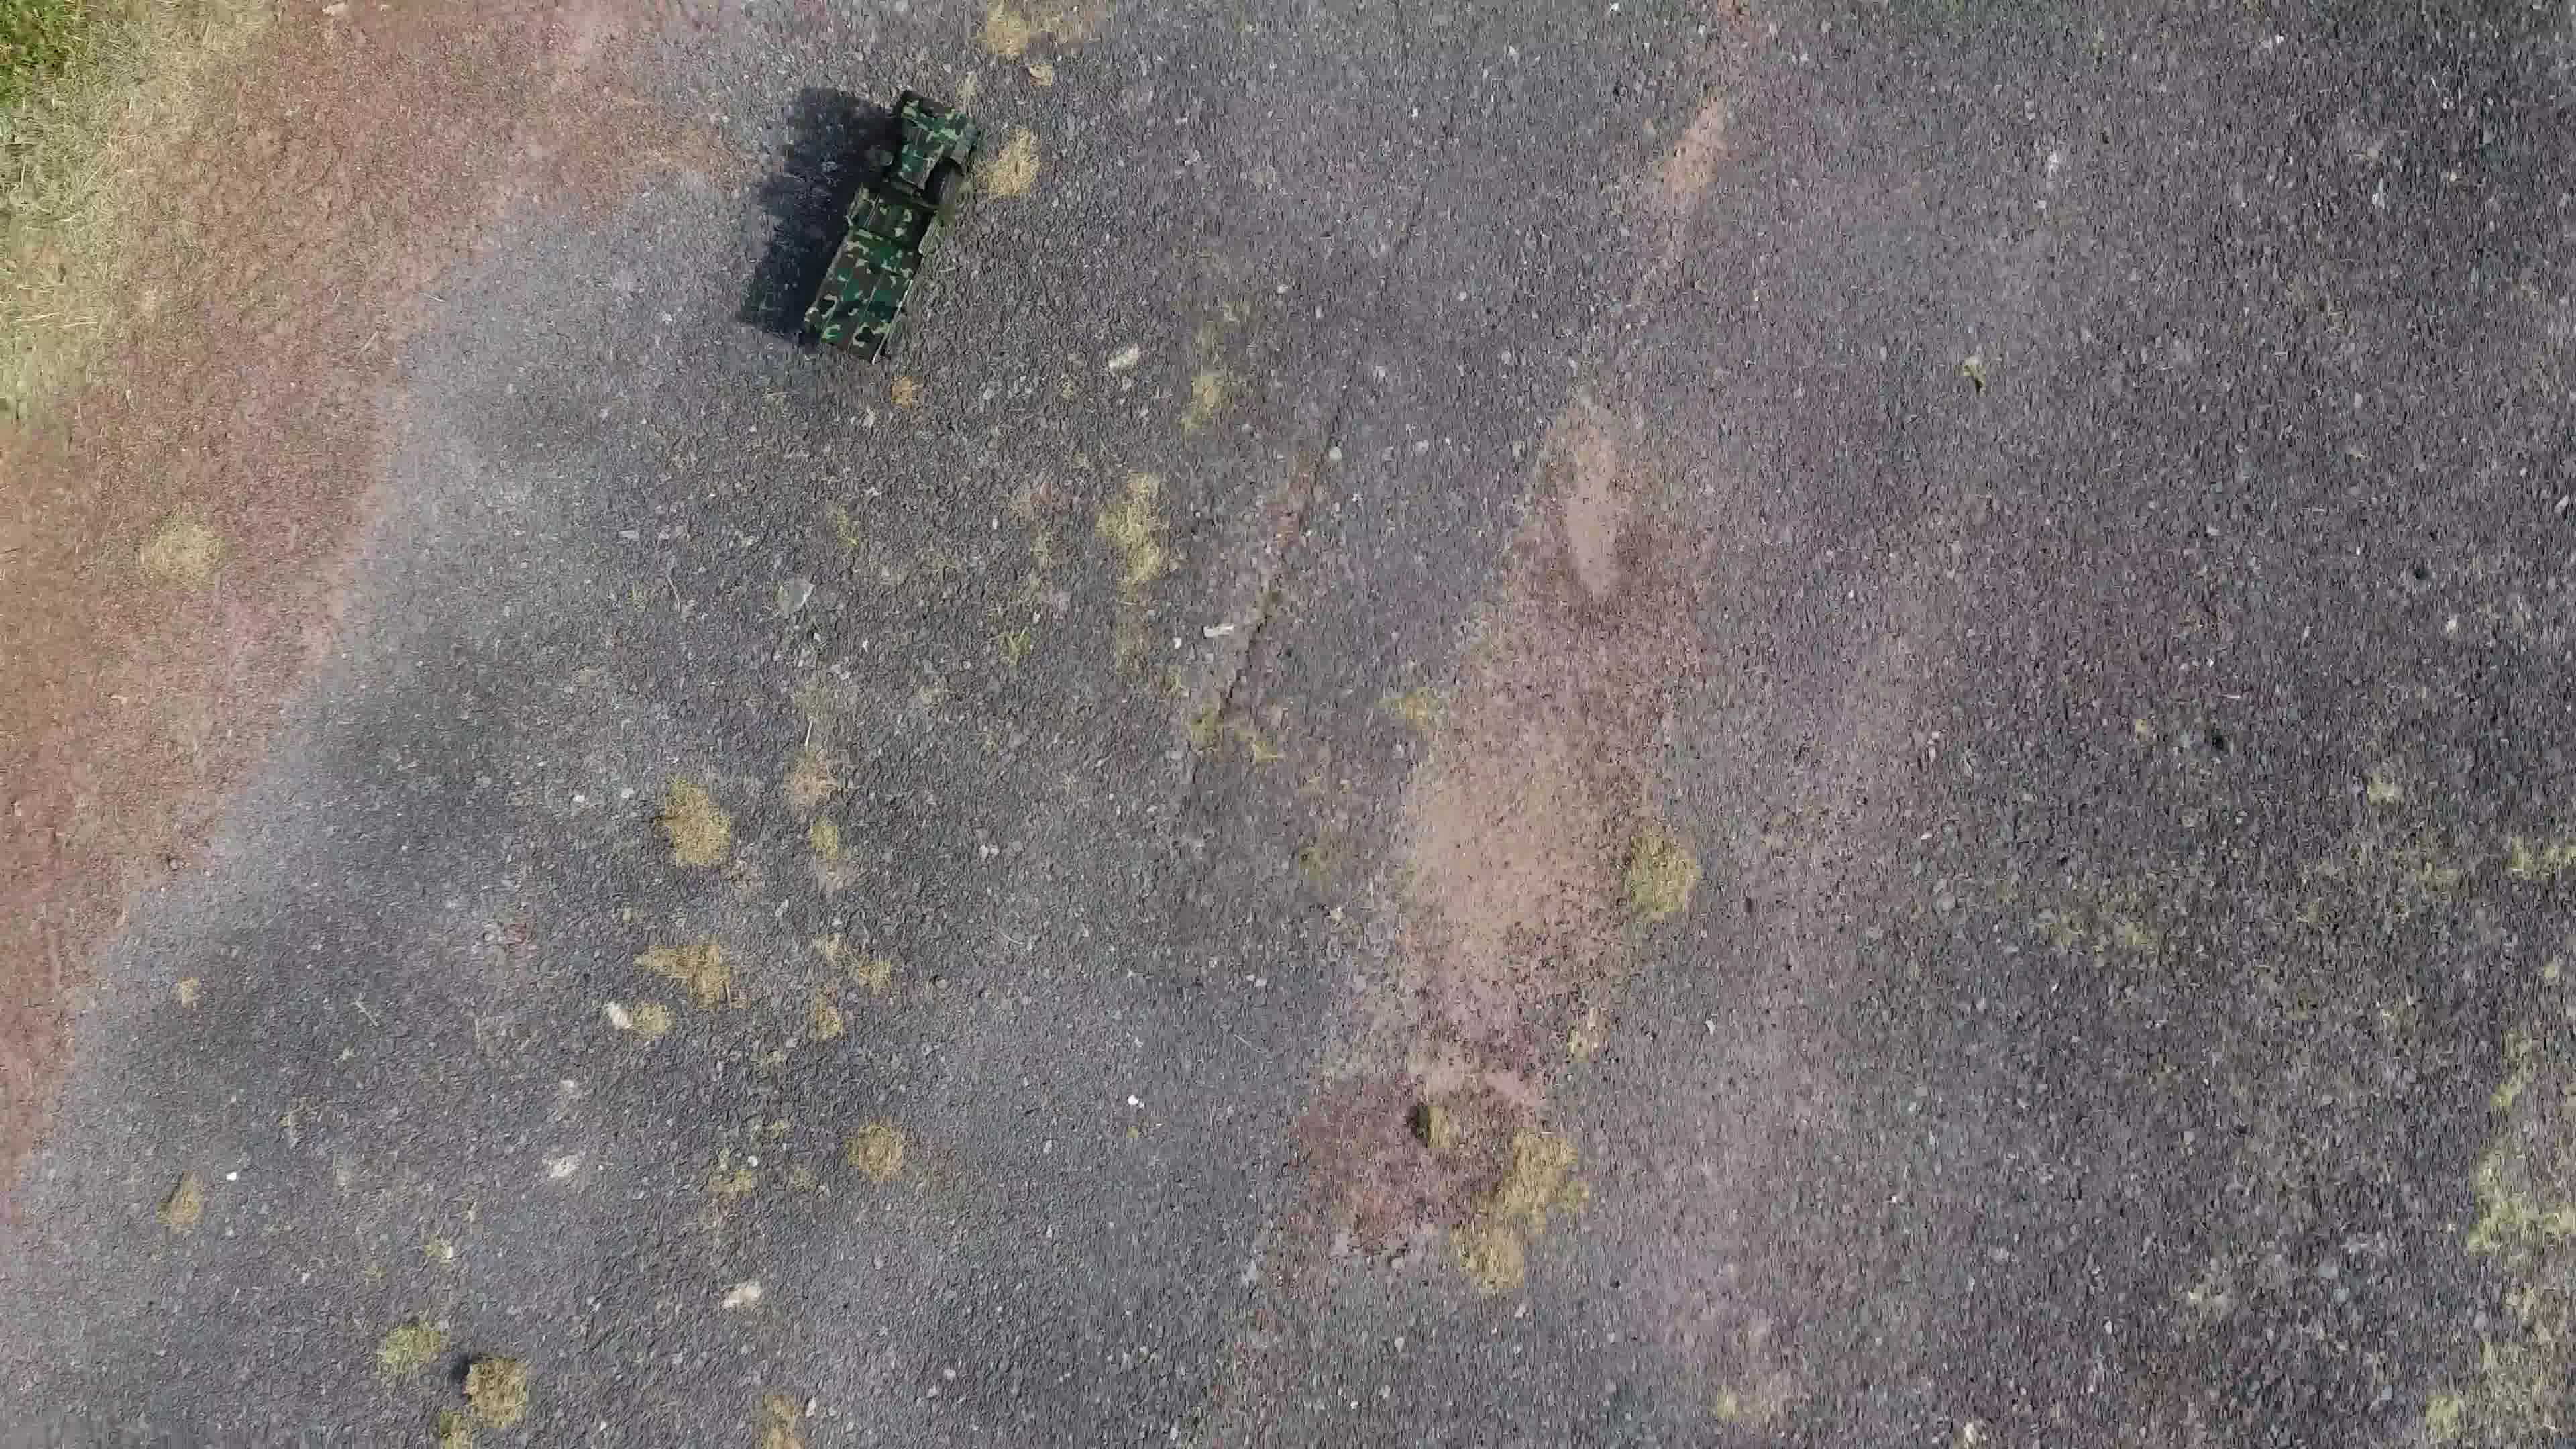transporter9_camo: (787, 85, 991, 373)
